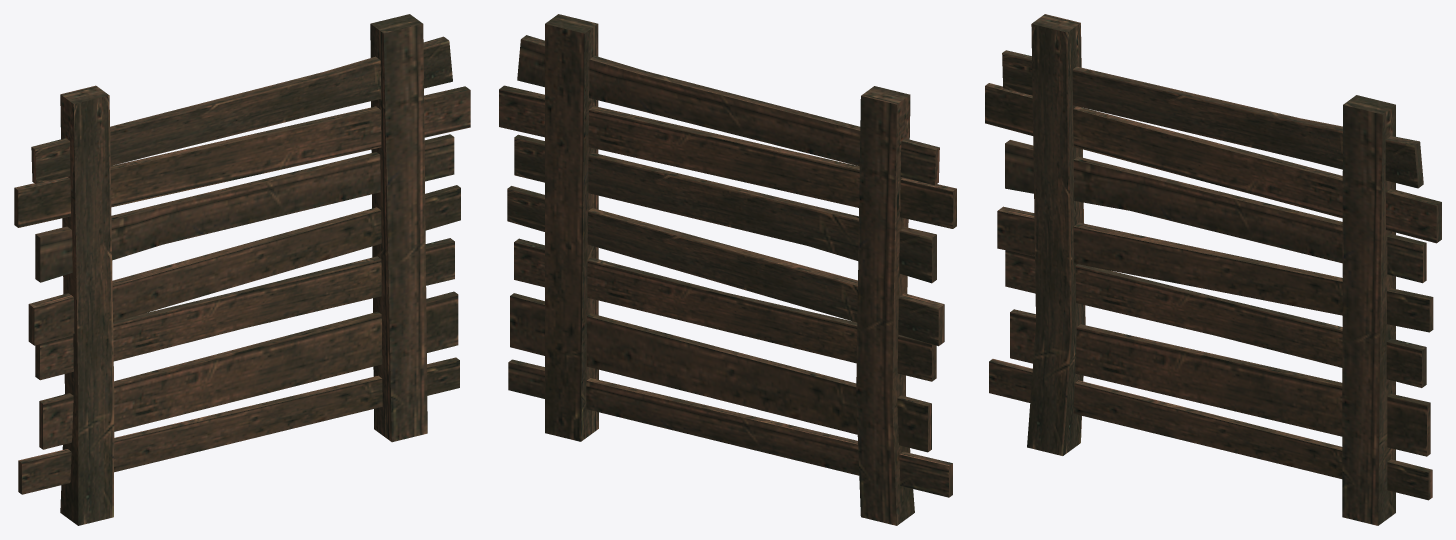
File: dcfx_zzj_01.FBX
3 views of the same model, side by side, from view 1: azimuth 30°, elevation 25°; view 2: azimuth 150°, elevation 25°; view 3: azimuth 330°, elevation 25° (orthographic).
Parts seen in each view (by area): view 1: dcfx_zzj_01; view 2: dcfx_zzj_01; view 3: dcfx_zzj_01.
Part boxes in pixels (x1,y1,x2,y2): dcfx_zzj_01: (14, 14, 470, 525); dcfx_zzj_01: (499, 14, 956, 525); dcfx_zzj_01: (985, 14, 1441, 525).
Size of the model in its own units: 524 by 465 by 36.29.
